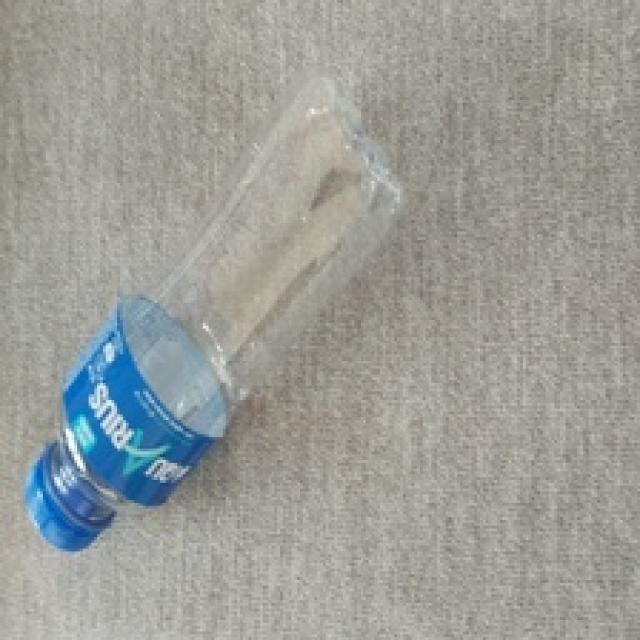Plastic: (24, 73, 406, 554)
